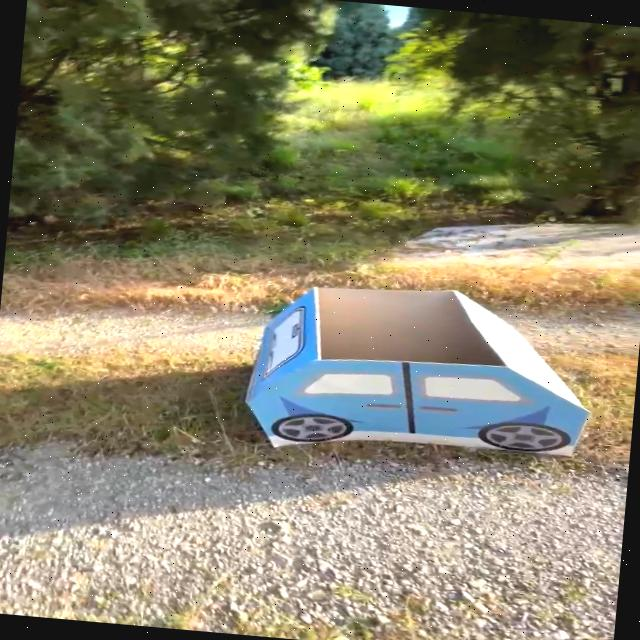blue_car: (183, 227, 640, 513)
